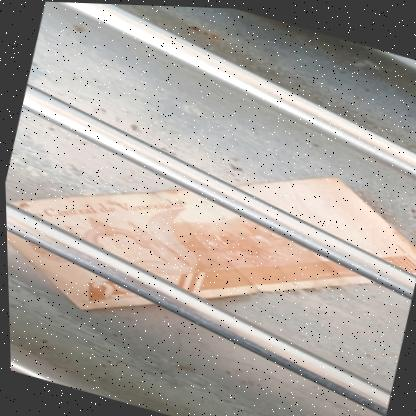twenty-back-vef: (2, 87, 416, 396)
